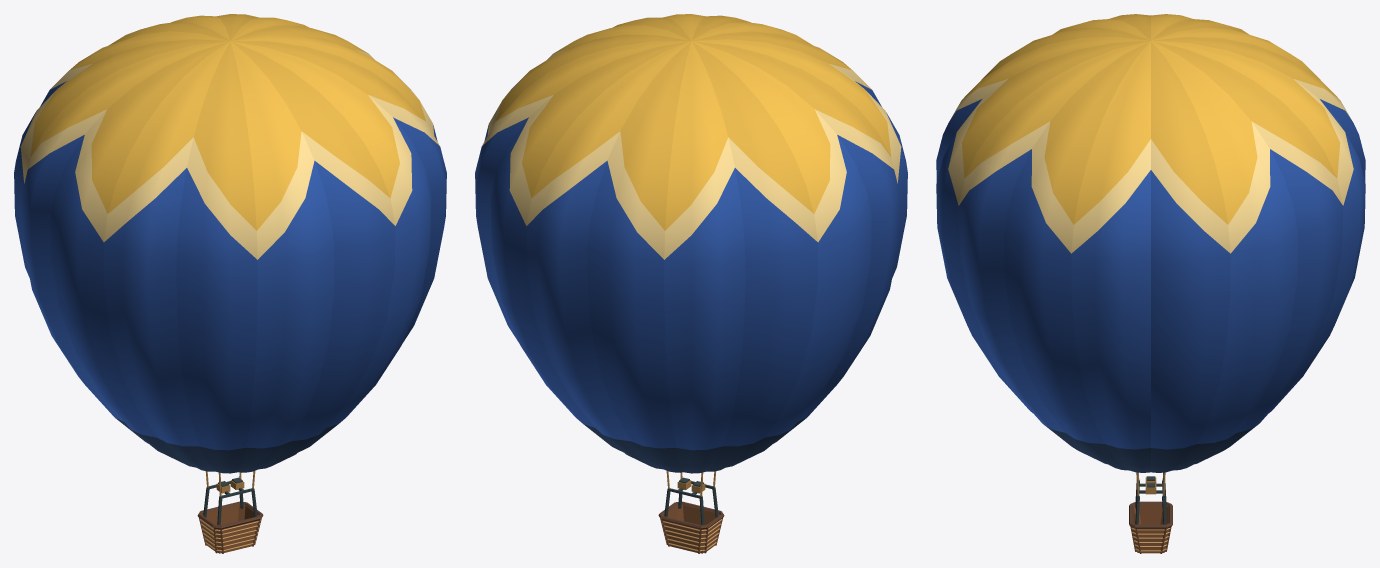
The model's file is hot_air_balloon_golden_crown.glb.
3 views of the same model, side by side, from view 1: azimuth 30°, elevation 25°; view 2: azimuth 150°, elevation 25°; view 3: azimuth 270°, elevation 25° (orthographic).
Visible parts, largest first — view 1: EnvelopeAndBasket; view 2: EnvelopeAndBasket; view 3: EnvelopeAndBasket.
Boxes of the visible parts, x1=… form: EnvelopeAndBasket: x1=14, y1=14, x2=446, y2=553; EnvelopeAndBasket: x1=475, y1=14, x2=907, y2=553; EnvelopeAndBasket: x1=936, y1=14, x2=1365, y2=553.
Size of the model in its own units: 16.46 by 21.31 by 16.46.
Materials: 1 (1 with a texture image).
